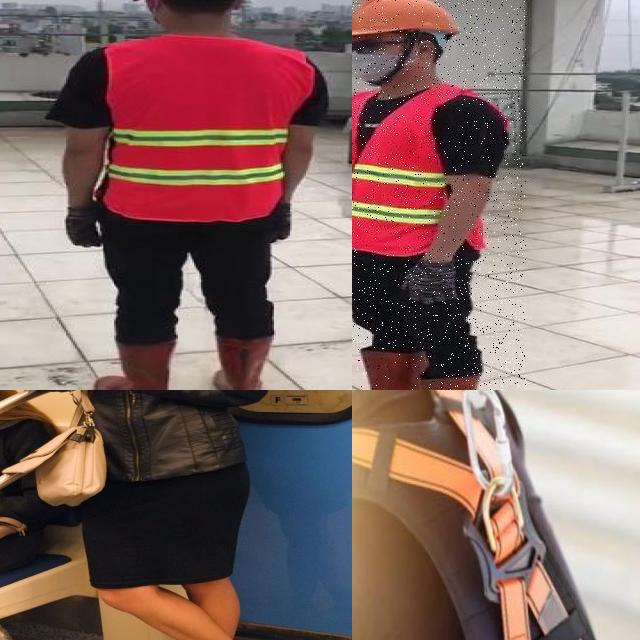Harness: (352, 390, 585, 640)
boots: (92, 339, 178, 390), (211, 333, 272, 390), (352, 350, 429, 390)
hand_glove: (62, 201, 101, 248), (267, 204, 292, 243)
head_helmet: (352, 0, 466, 39)
person: (56, 0, 333, 390), (352, 0, 526, 390)
vest: (103, 36, 301, 221), (352, 87, 505, 254)
